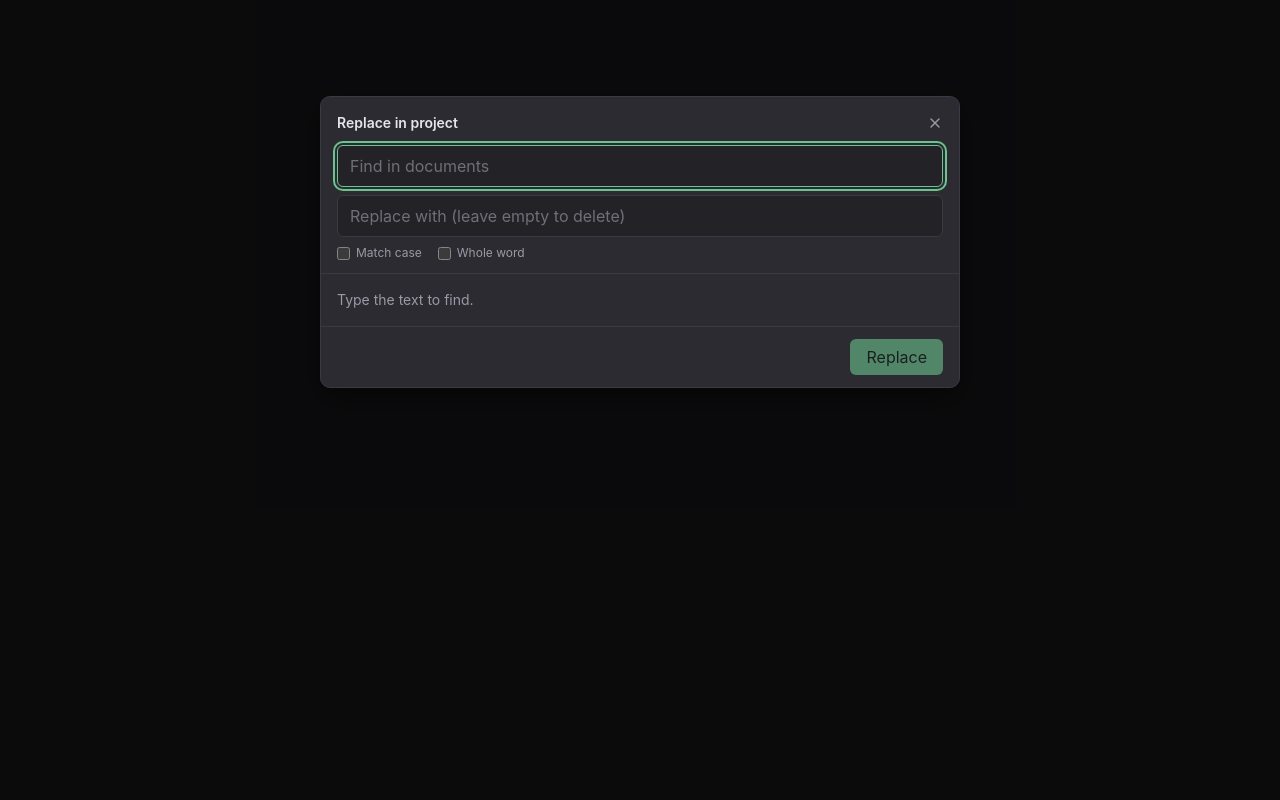
ReplaceDialog (F-10.2) › shows "+k more" past the sample cap and no insertion for a deletion
The image size is (1280, 800).
In the field labelled "Find": (640, 166) [337, 145, 943, 187], type "x"
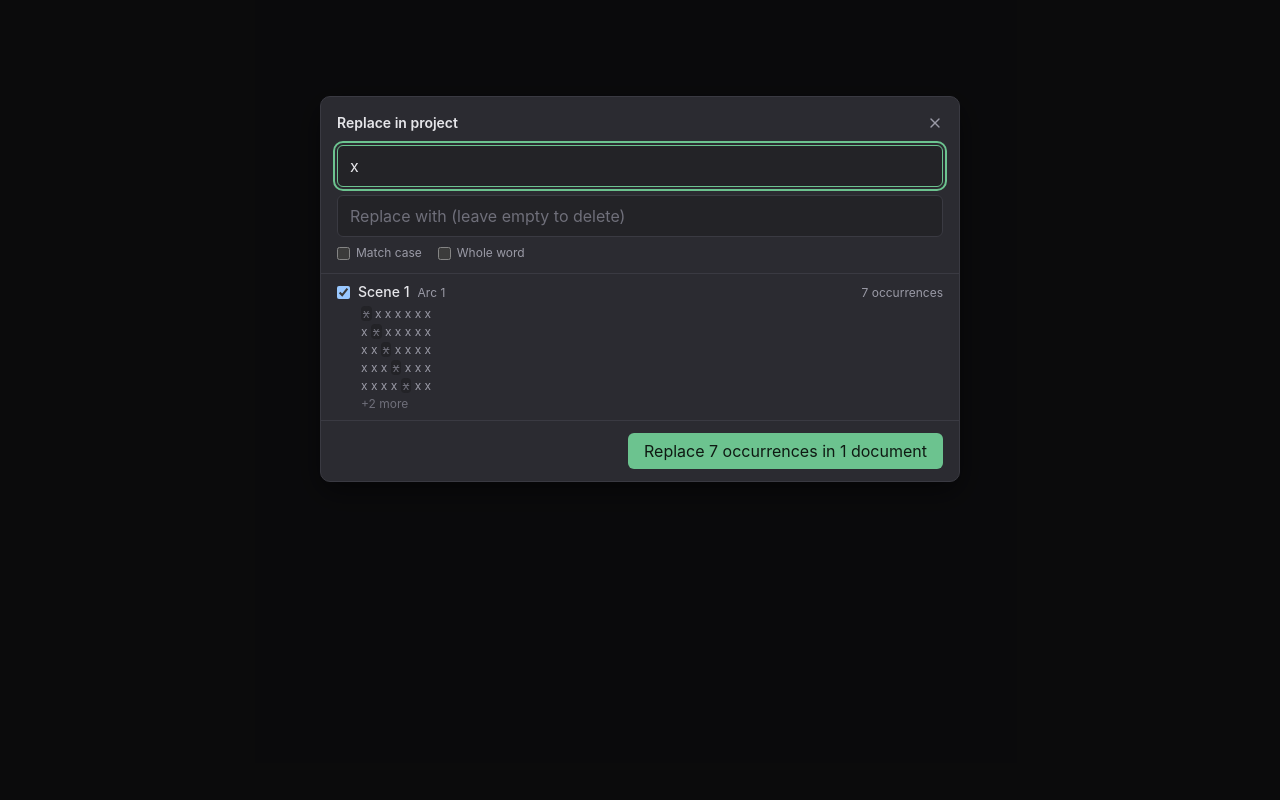
Now the list item with test id "replace-document" shows "7 occurrences", box [862, 285, 943, 300]
Now the list item with test id "replace-document" shows "+2 more", box [321, 274, 959, 420]
